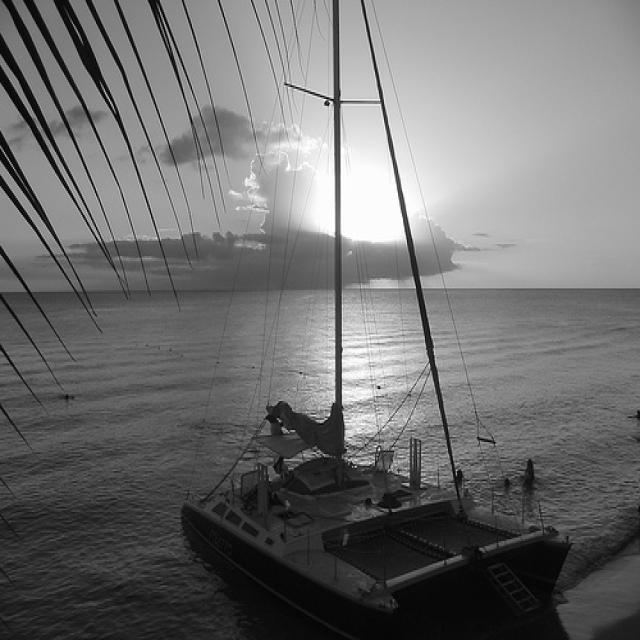Boat: (199, 14, 561, 640)
